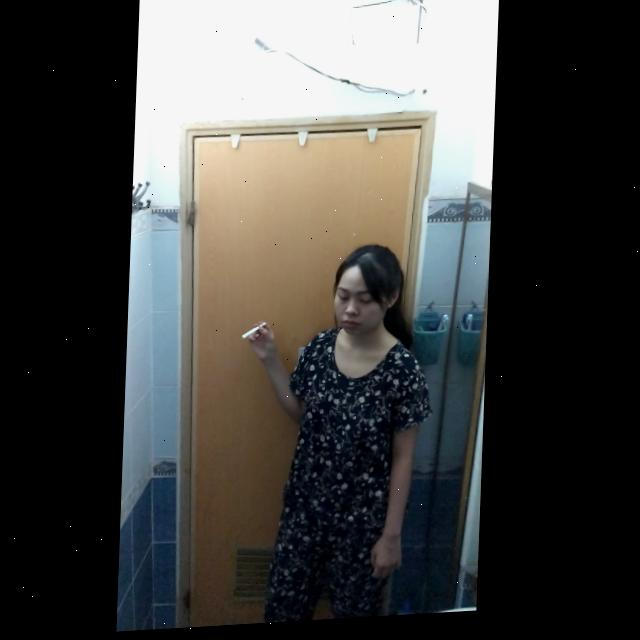cigarette: (244, 325, 270, 342)
